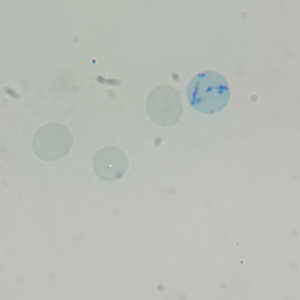aggregate reticulocyte: (184, 69, 232, 116)
erythrocyte: (144, 83, 185, 128), (30, 122, 74, 163), (91, 145, 129, 183)
